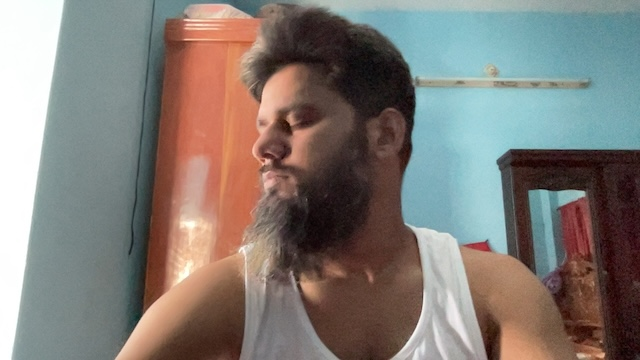Goggles: (235, 16, 379, 253)
